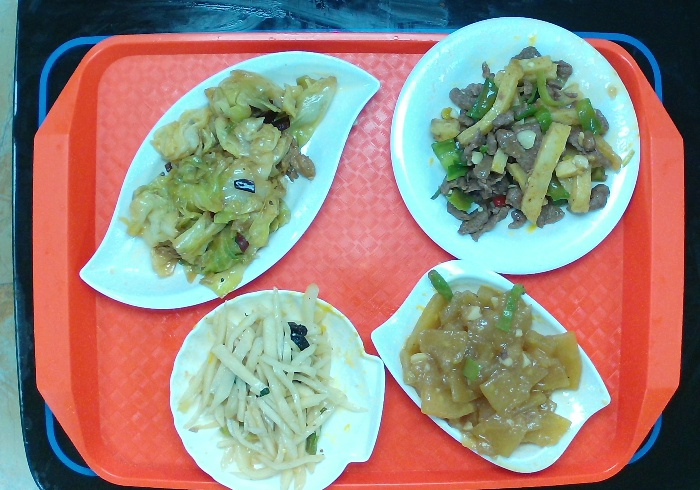RJxy-Bei_Ke_Wan: (168, 285, 389, 490)
RJxy-Jian_Jiao_Fang_Die: (369, 255, 616, 479)
RJxy-Jian_Jiao_Pan: (78, 46, 382, 311)
RJxy-Yuan_Pan: (386, 10, 643, 278)
